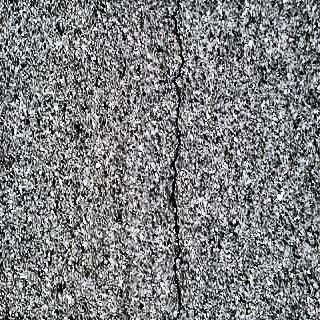crack: (167, 2, 184, 320)
